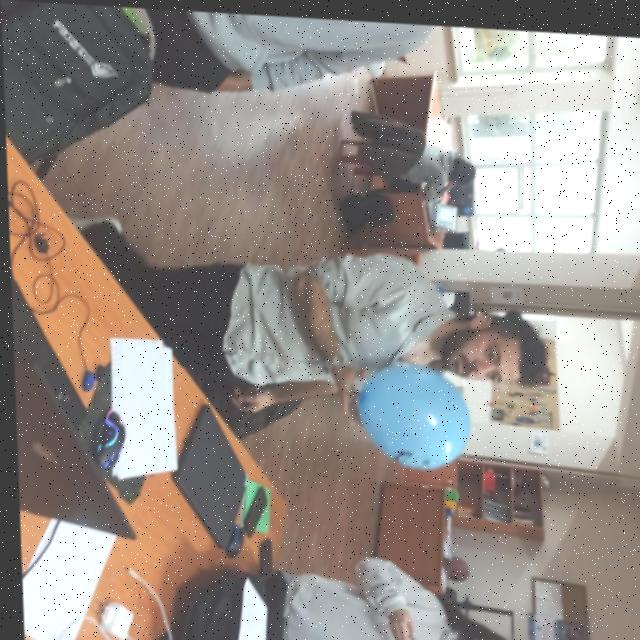balloon: (345, 357, 468, 464)
